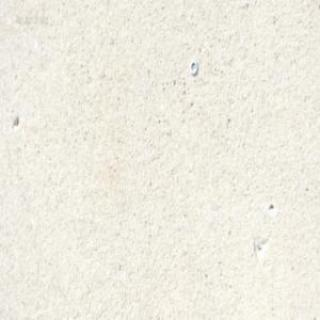Washertrack_idkeyframe: (189, 58, 197, 74)
